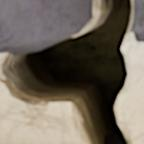broken_brick: (0, 0, 86, 54), (134, 0, 143, 42)
crack: (0, 0, 141, 143)
